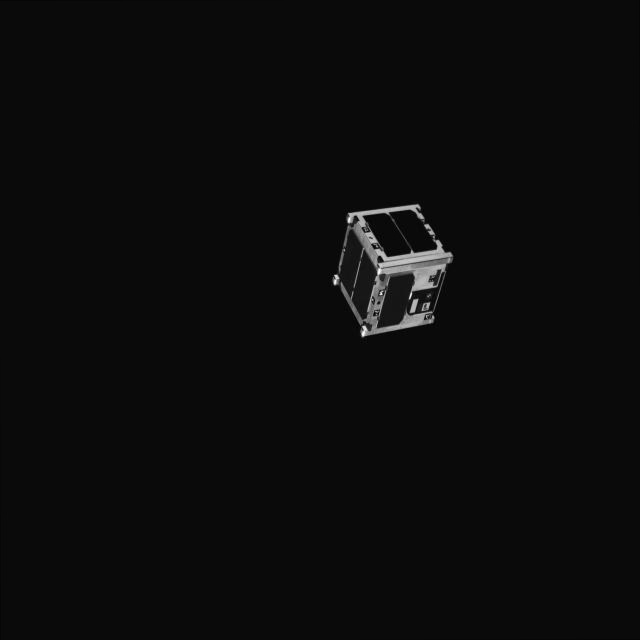medium_debris: (322, 198, 450, 340)
